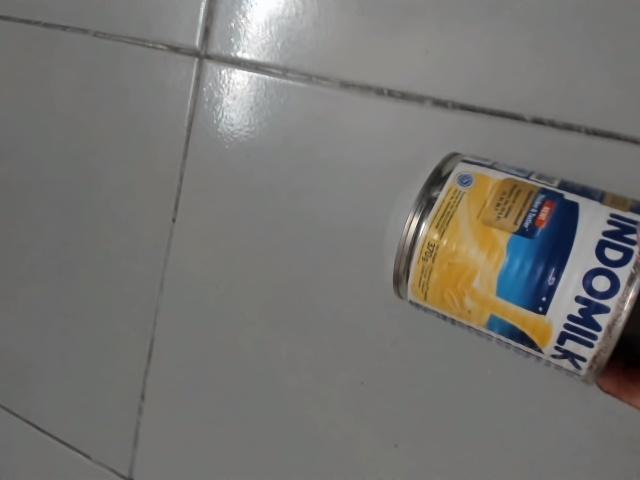anorganik: (384, 144, 640, 393)
